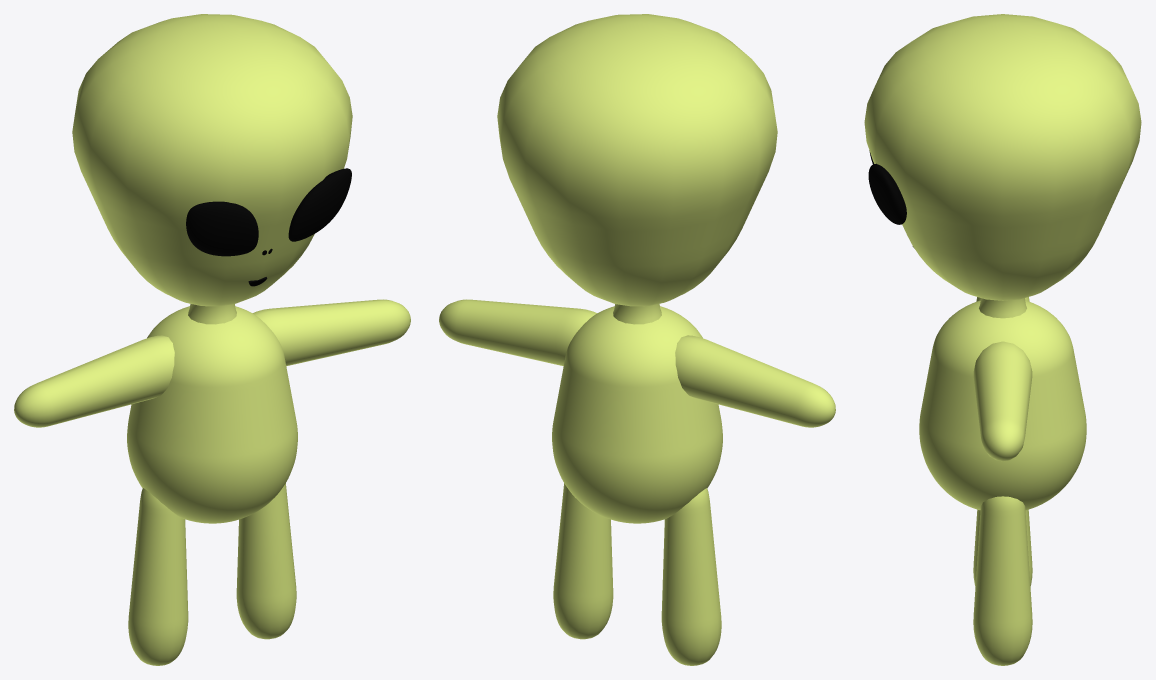
Rendered from alien2.glb.
3 renders of one model, left to right at view 1: azimuth 30°, elevation 25°; view 2: azimuth 150°, elevation 25°; view 3: azimuth 270°, elevation 25°, orthographic. The views are drawn at different scales.
Parts seen in each view (by area): view 1: Null_2; view 2: Null_2; view 3: Null_2.
Part boxes in pixels (box(x1,y1,x2,y2)): Null_2: box(14, 14, 410, 665); Null_2: box(439, 14, 835, 665); Null_2: box(864, 14, 1141, 665).
Bounding box in the file's own units: 2.19 × 3.28 × 1.37.
